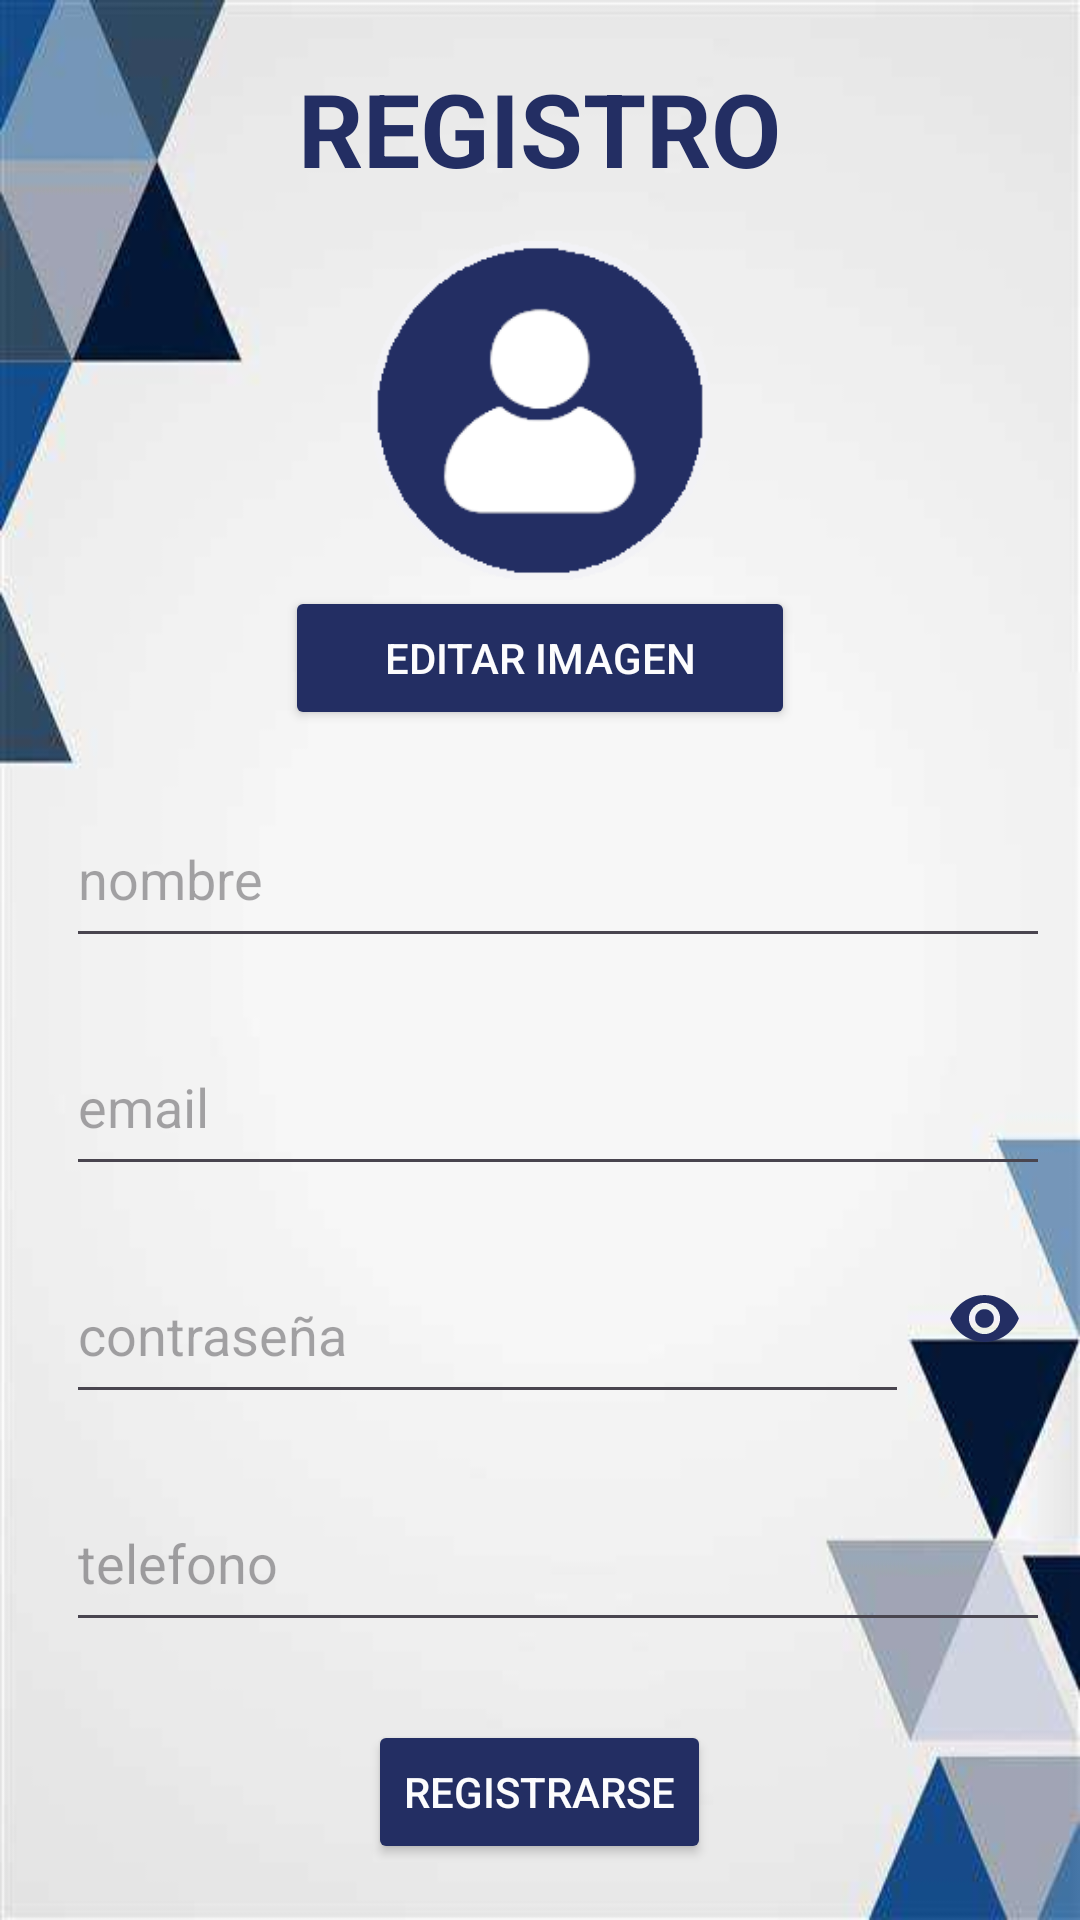

Screen size 1080w x 1920h. Icon name, then its box in pixels as (x1, y1, x2, y2):
profile: (377, 248, 703, 573)
